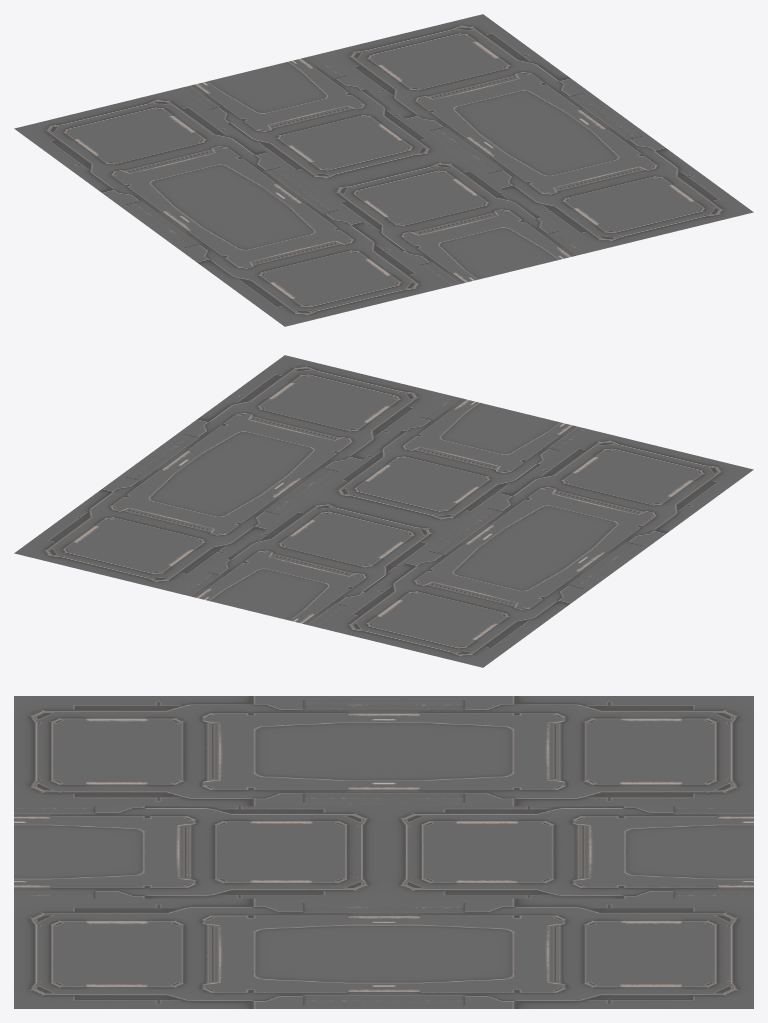
Rendered from platform_3_plates.glb.
The picture shows the model from 3 angles, top to bottom: view 1: azimuth 30°, elevation 25°; view 2: azimuth 150°, elevation 25°; view 3: azimuth 270°, elevation 25°; orthographic projection. The views are drawn at different scales.
Parts seen in each view (by area): view 1: Platform_3Plates; view 2: Platform_3Plates; view 3: Platform_3Plates.
Boxes of the visible parts, x1,y1,x2,y2 form: Platform_3Plates: [14, 14, 753, 326]; Platform_3Plates: [14, 355, 753, 667]; Platform_3Plates: [14, 696, 753, 1008].
Size of the model in its own units: 4 by 0 by 4.
1 material, 1 textured.
